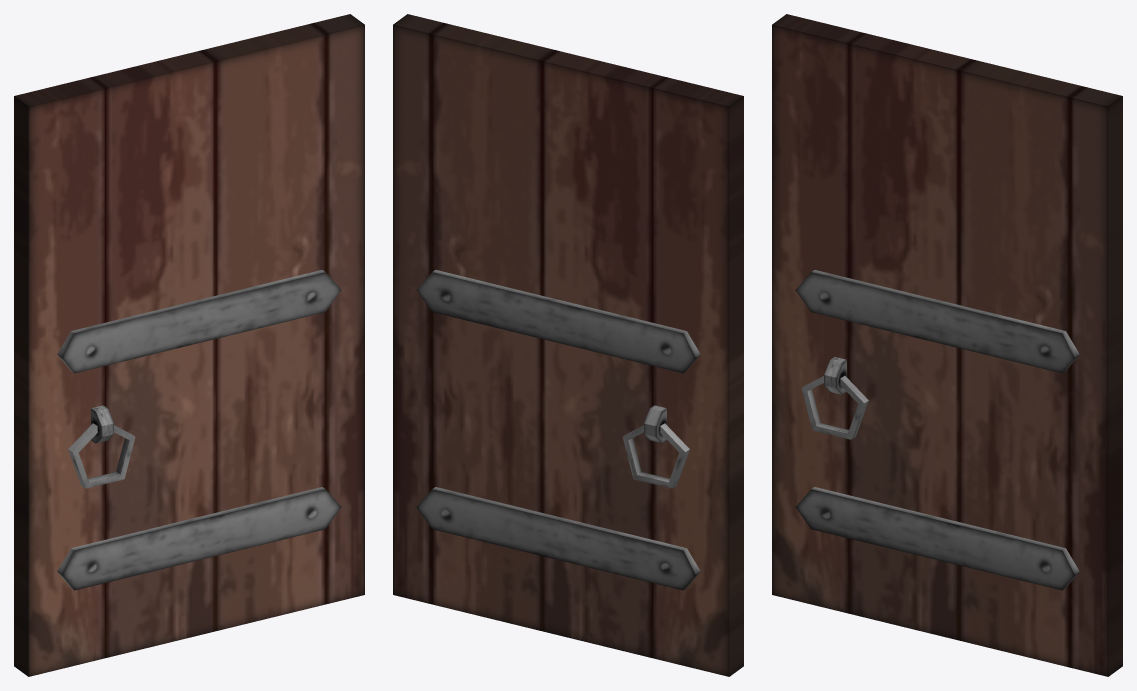
The model's file is Door0.fbx.
3 renders of one model, left to right at view 1: azimuth 30°, elevation 25°; view 2: azimuth 150°, elevation 25°; view 3: azimuth 330°, elevation 25°, orthographic.
Parts seen in each view (by area): view 1: Cube; view 2: Cube; view 3: Cube.
Boxes of the visible parts, x1=… form: Cube: x1=14, y1=14, x2=364, y2=676; Cube: x1=393, y1=14, x2=743, y2=676; Cube: x1=772, y1=14, x2=1122, y2=676.
Bounding box in the file's own units: 267 × 434 × 48.78.
